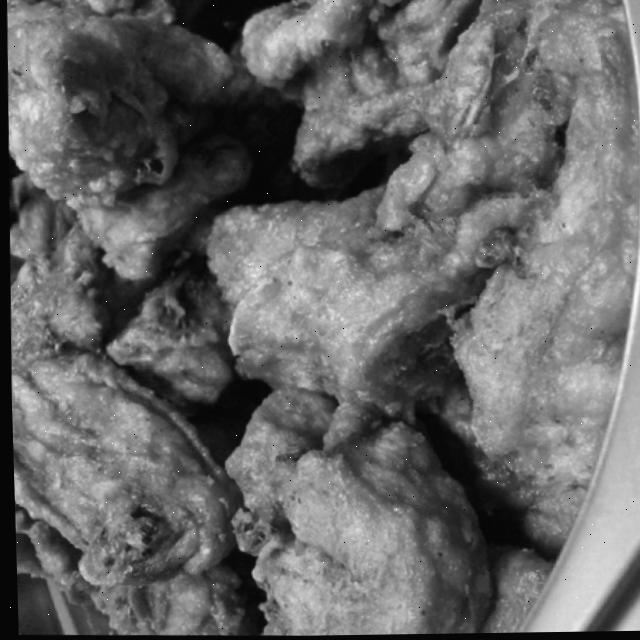鸡肉料理 含炸鸡: (0, 0, 616, 640)
